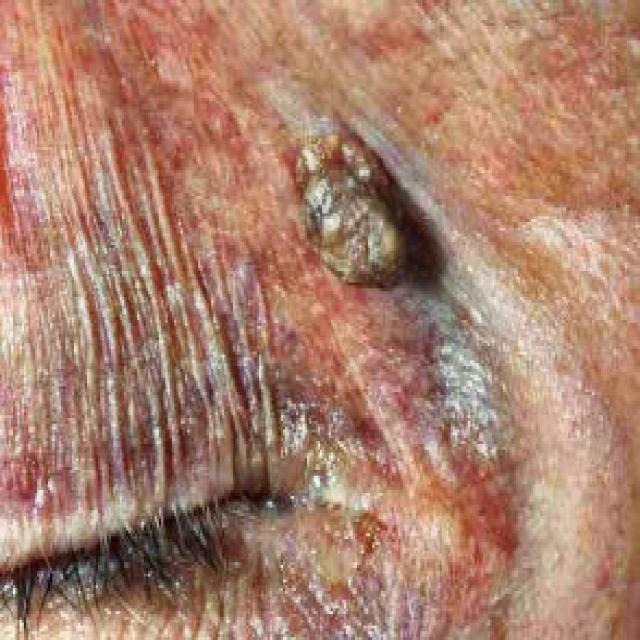Seborrheic-Keratoses-and-other-Benign-Tumors: (125, 27, 550, 577)
